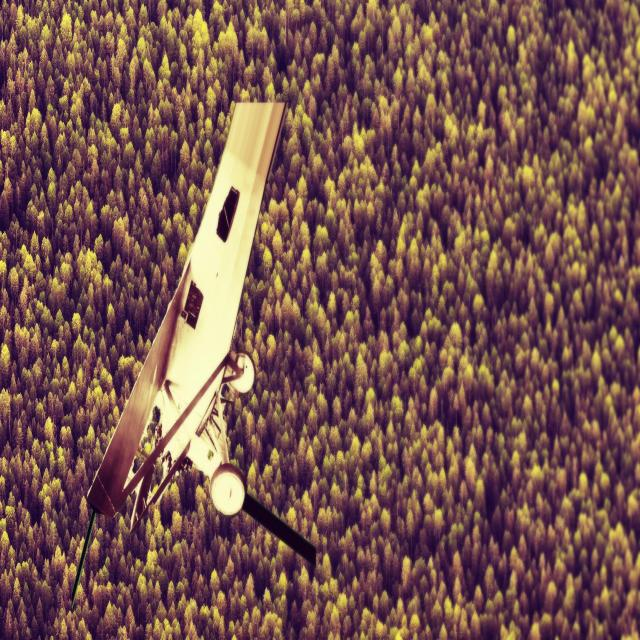airplane: (70, 99, 317, 610)
